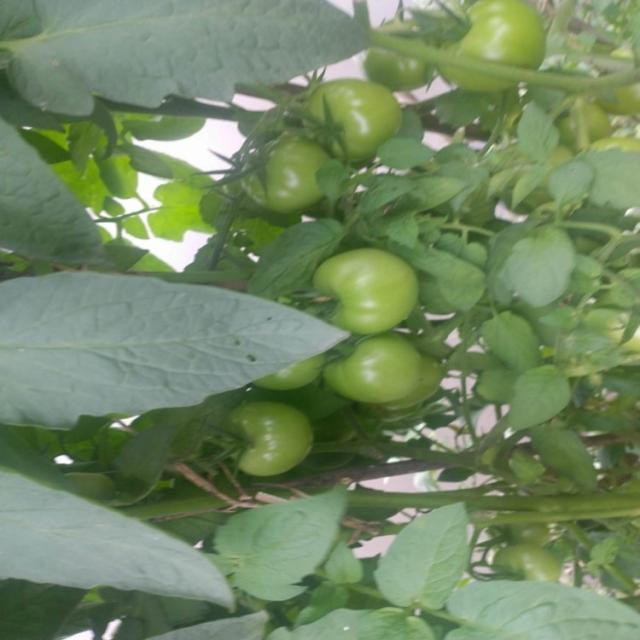tomato: (437, 1, 543, 95), (302, 78, 415, 160), (317, 246, 422, 334), (237, 131, 332, 209), (233, 401, 315, 479), (324, 340, 419, 400), (363, 19, 443, 90), (387, 355, 443, 411), (489, 538, 561, 581), (247, 358, 323, 395), (556, 104, 610, 139), (581, 130, 640, 161)
